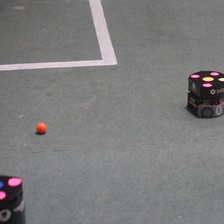ball: (33, 121, 48, 135)
robot: (184, 67, 224, 118), (1, 173, 24, 224)
